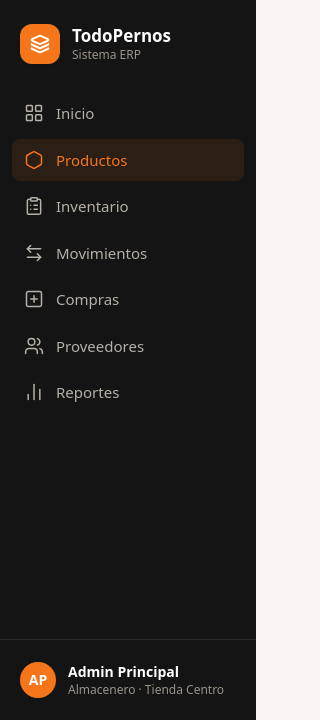
Scenario: BarraLateral › el menú del usuario permite cerrar sesión
The image size is (320, 720).
Click the button with aria-label "Opciones de usuario". click: [128, 680]
box: [12, 656, 244, 704]
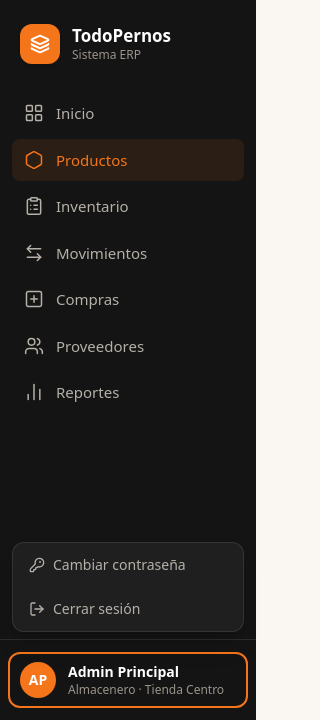
Expected: the button "Cambiar contraseña" is shown, [13, 543, 243, 587]
Expected: the button "Cerrar sesión" is shown, [13, 587, 243, 631]
